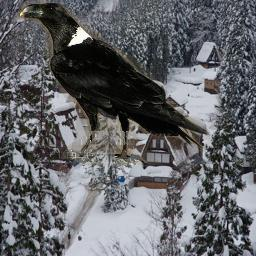Crow: (18, 2, 211, 165)
